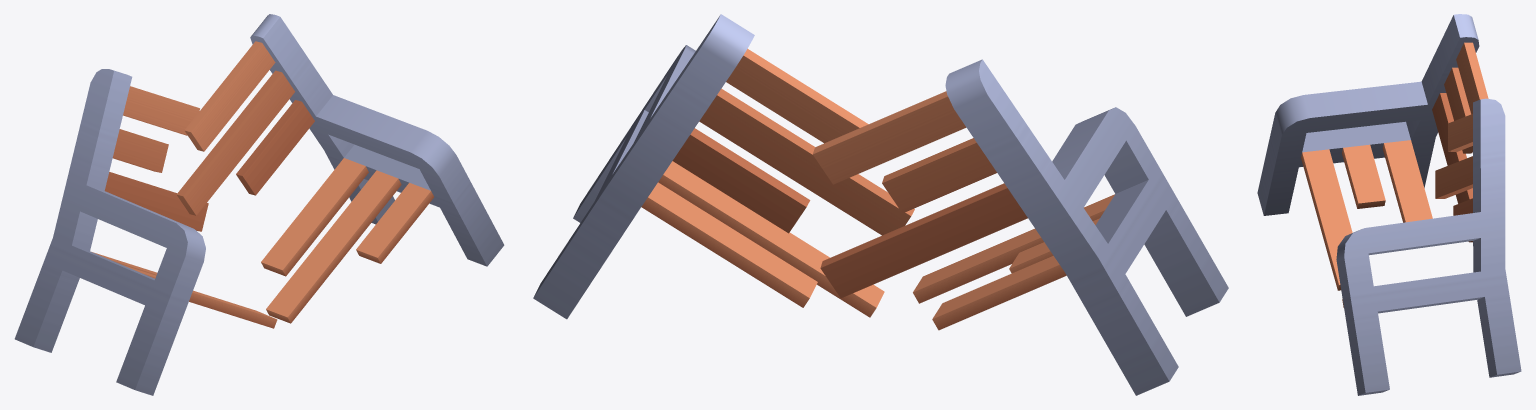
Rendered from broken_bench.glb.
The picture shows the model from 3 angles, left to right: view 1: azimuth 30°, elevation 25°; view 2: azimuth 150°, elevation 25°; view 3: azimuth 270°, elevation 25°; orthographic projection. The views are drawn at different scales.
Parts seen in each view (by area): view 1: Asset3DLoader.sceneRoot; view 2: Asset3DLoader.sceneRoot; view 3: Asset3DLoader.sceneRoot.
Boxes of the visible parts, box(x1,y1,x2,y2) form: Asset3DLoader.sceneRoot: box(14, 14, 504, 395); Asset3DLoader.sceneRoot: box(533, 14, 1228, 395); Asset3DLoader.sceneRoot: box(1257, 14, 1521, 395).
Size of the model in its own units: 1.03 by 0.5232 by 0.5259.
1 material, 1 textured.
